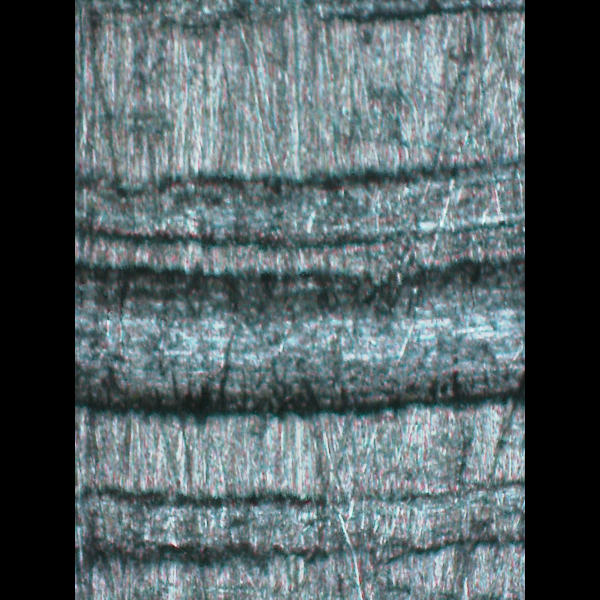d: (76, 160, 524, 424), (77, 473, 524, 589)
